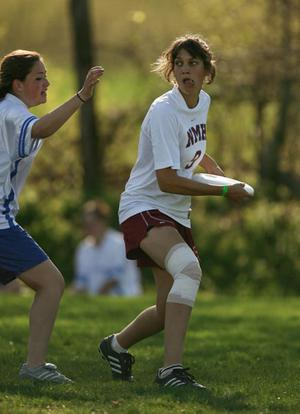person: (99, 35, 252, 391)
